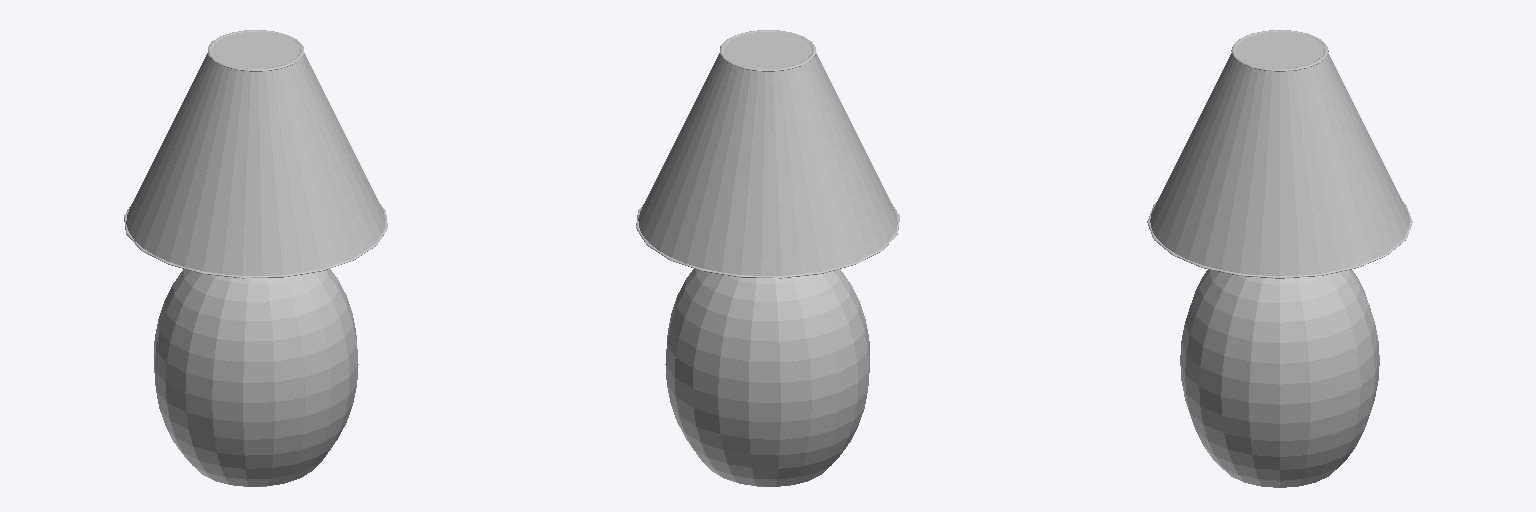
File: Lamp.obj
3 renders of one model, left to right at view 1: azimuth 30°, elevation 25°; view 2: azimuth 150°, elevation 25°; view 3: azimuth 270°, elevation 25°, orthographic.
Visible parts, largest first — view 1: polySurface38 polySurface49, polySurface38 polySurface51, polySurface38 polySurface53, polySurface38 polySurface46; view 2: polySurface38 polySurface49, polySurface38 polySurface51, polySurface38 polySurface53, polySurface38 polySurface46; view 3: polySurface38 polySurface49, polySurface38 polySurface51, polySurface38 polySurface53, polySurface38 polySurface46.
Boxes of the visible parts, box(x1,y1,x2,y2) form: polySurface38 polySurface49: box(126, 31, 385, 275); polySurface38 polySurface51: box(154, 269, 358, 486); polySurface38 polySurface53: box(124, 204, 387, 278); polySurface38 polySurface46: box(208, 30, 303, 71); polySurface38 polySurface49: box(638, 31, 897, 275); polySurface38 polySurface51: box(665, 269, 869, 486); polySurface38 polySurface53: box(636, 204, 899, 278); polySurface38 polySurface46: box(720, 30, 815, 71); polySurface38 polySurface49: box(1150, 31, 1409, 275); polySurface38 polySurface51: box(1180, 270, 1379, 487); polySurface38 polySurface53: box(1147, 202, 1412, 278); polySurface38 polySurface46: box(1231, 30, 1328, 71).
Bounding box in the file's own units: 4.47 × 7.66 × 4.47.